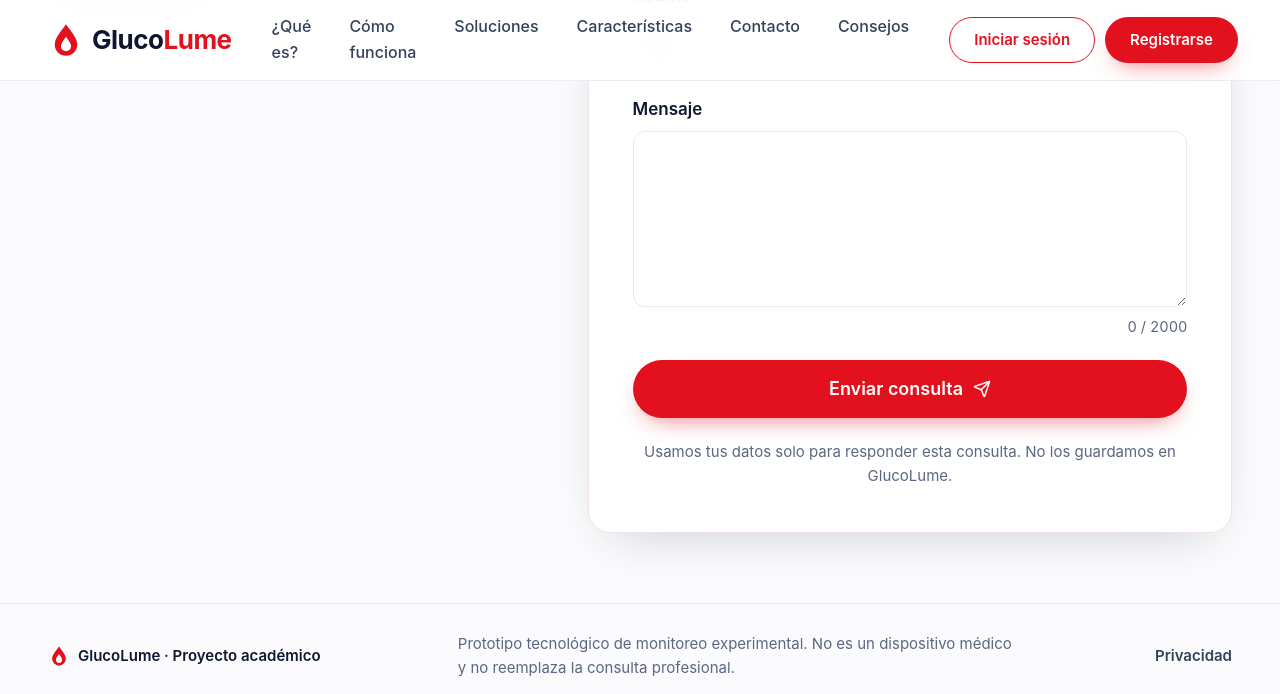
Test case: Landing: contacto › valida antes de enviar
(page scrolled)
Click the button "Enviar consulta": (910,389) [632,360,1188,418]
(page scrolled)
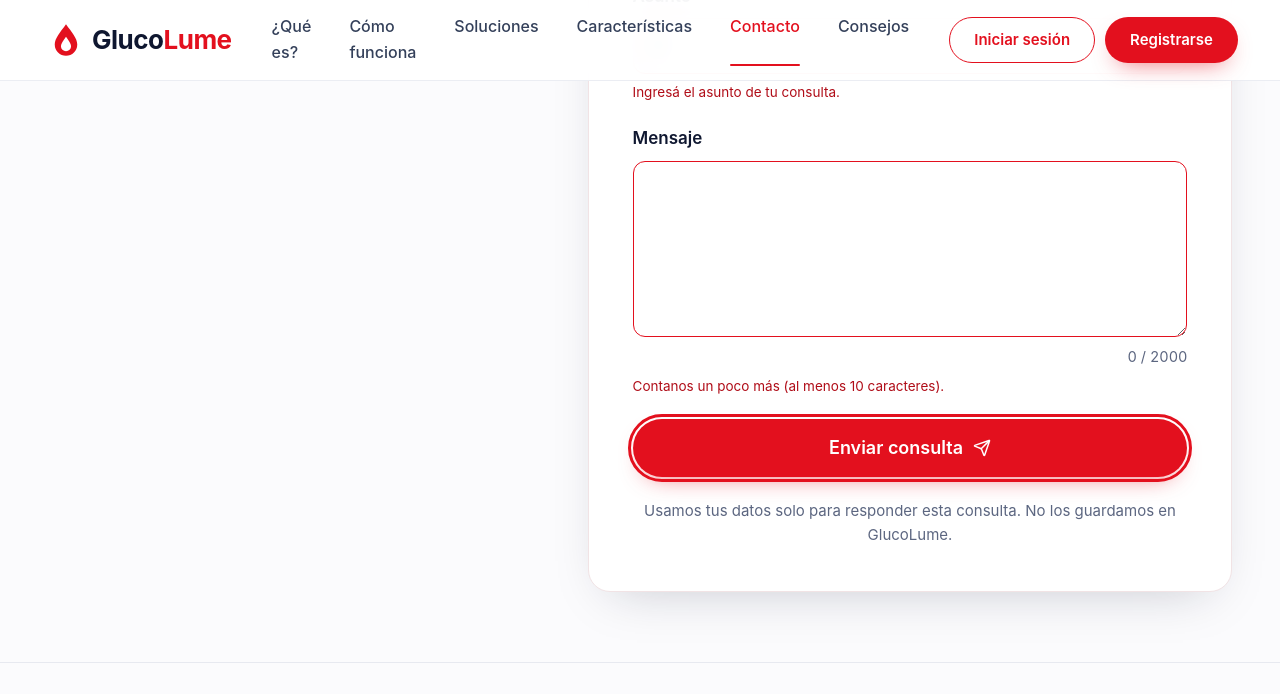
Result: the text "Ingresá el asunto de tu consulta." is shown at [632,84,840,100]
Result: the text "Contanos un poco más (al menos 10 caracteres)." is shown at [632,378,944,394]
